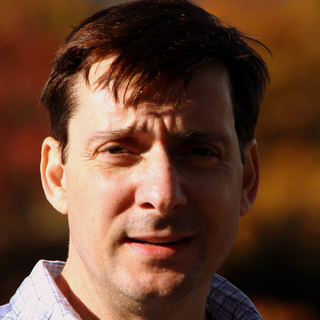eye: (97, 138, 143, 162)
